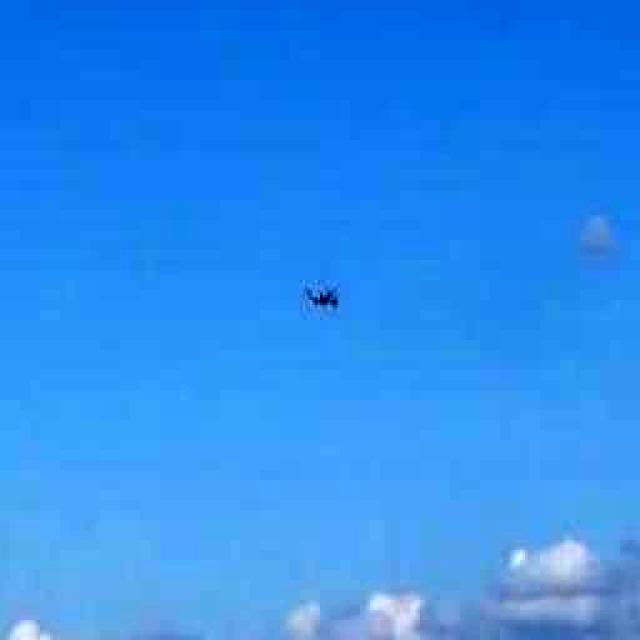bird: (268, 239, 378, 369)
